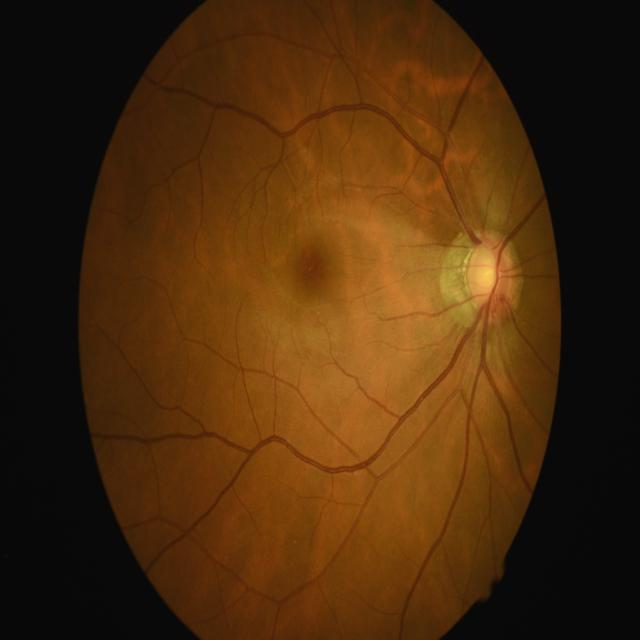cup: (476, 246, 498, 302)
disk: (467, 242, 511, 314)
